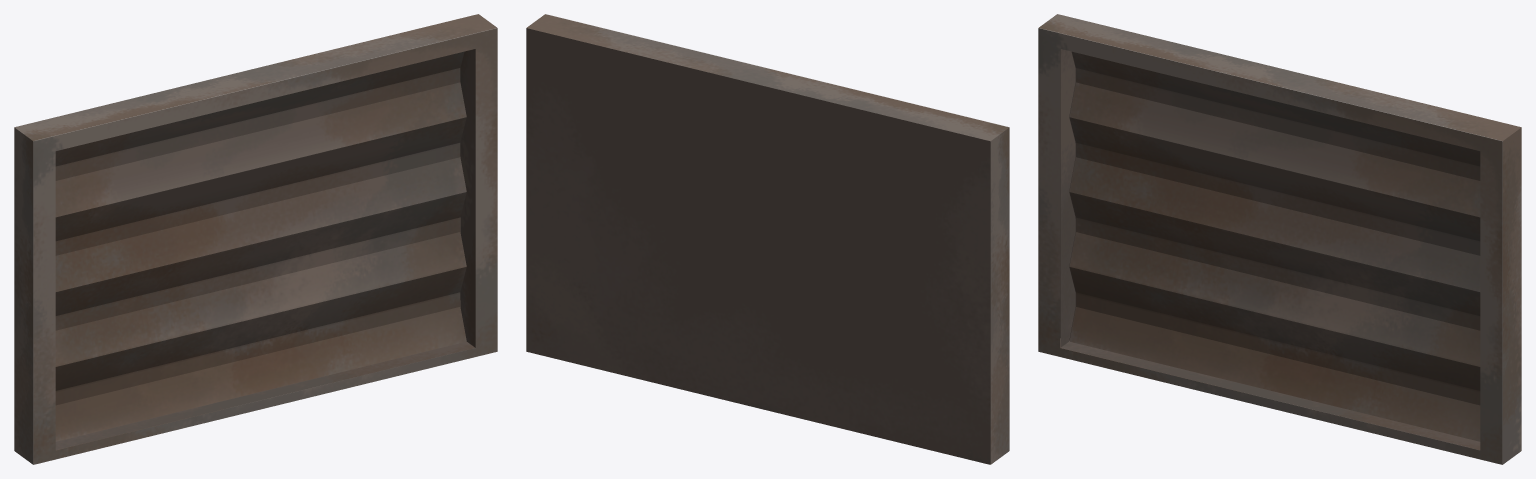
Rendered from PUERTACARROV2.fbx.
3 views of the same model, side by side, from view 1: azimuth 30°, elevation 25°; view 2: azimuth 150°, elevation 25°; view 3: azimuth 330°, elevation 25° (orthographic).
Visible parts, largest first — view 1: Garaje.001; view 2: Garaje.001; view 3: Garaje.001.
Boxes of the visible parts, x1=… form: Garaje.001: x1=14, y1=14, x2=497, y2=464; Garaje.001: x1=526, y1=14, x2=1009, y2=464; Garaje.001: x1=1038, y1=14, x2=1521, y2=464.
Bounding box in the file's own units: 942 × 628 × 67.38.
